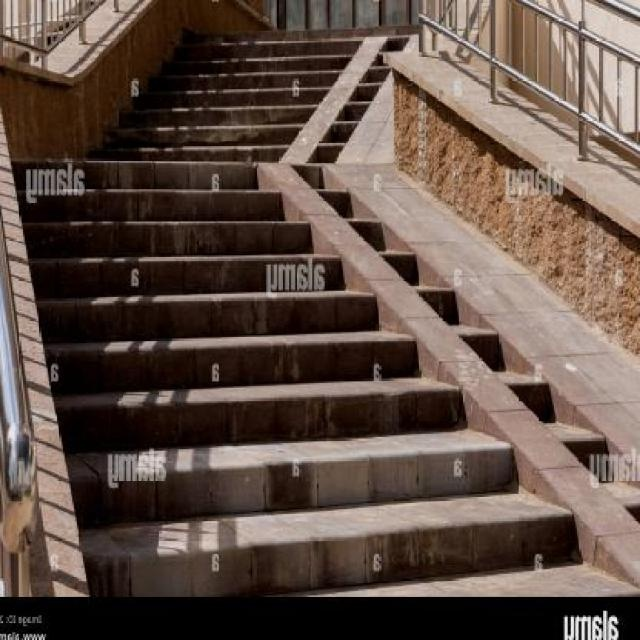stair: (0, 0, 634, 595)
